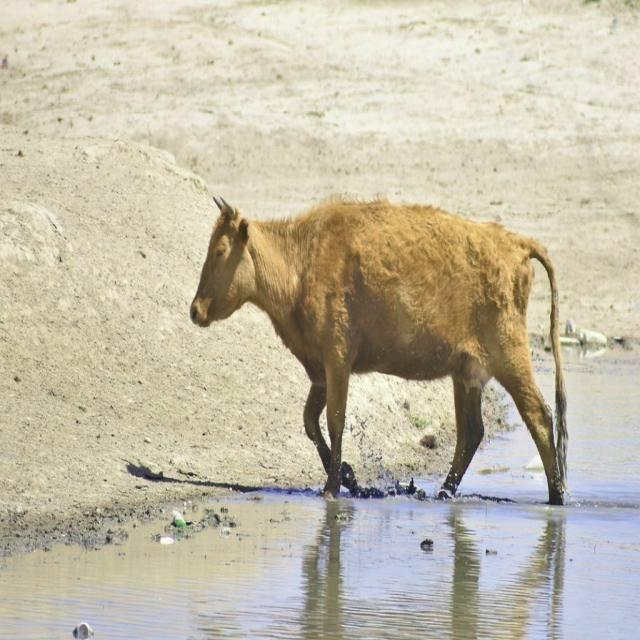cow: (191, 199, 566, 504)
